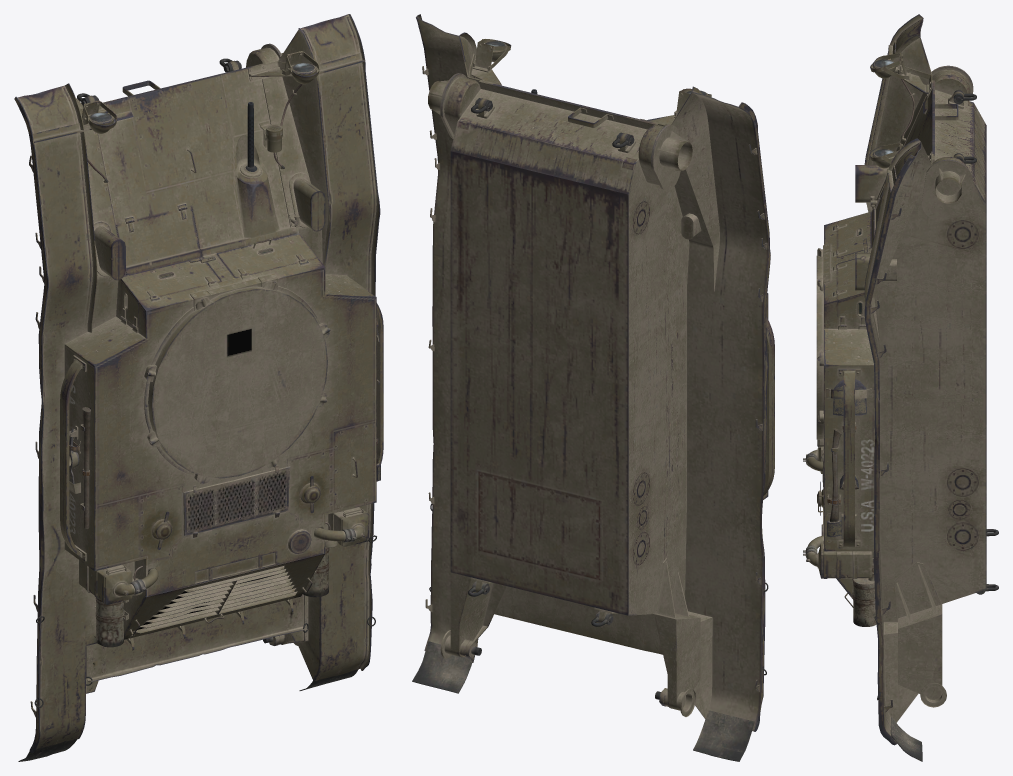
File: Hull.glb
3 renders of one model, left to right at view 1: azimuth 30°, elevation 25°; view 2: azimuth 150°, elevation 25°; view 3: azimuth 270°, elevation 25°, orthographic. The views are drawn at different scales.
Parts seen in each view (by area): view 1: set_0_group_0; view 2: set_0_group_0; view 3: set_0_group_0.
Part boxes in pixels (box(x1,y1,x2,y2)): set_0_group_0: box(14, 14, 383, 761); set_0_group_0: box(412, 14, 774, 761); set_0_group_0: box(803, 14, 998, 761).
Size of the model in its own units: 2.73 by 5.15 by 1.5.
Materials: 1 (1 with a texture image).
